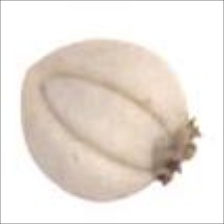L5: (39, 71, 168, 170), (148, 112, 203, 189)
L6: (18, 37, 204, 205)
